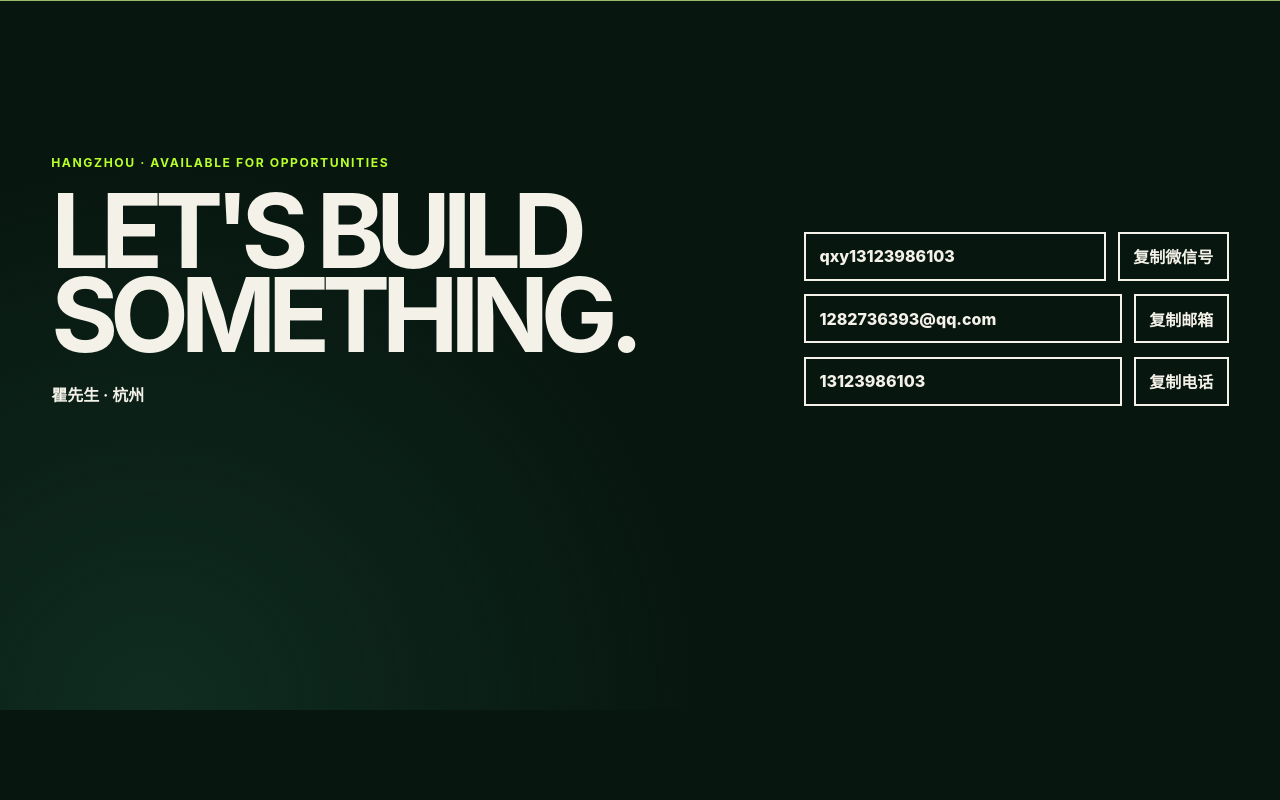
ContactSection › copies the public WeChat ID and announces success
Expected: the text "qxy13123986103" is shown, [804,232,1106,281]
Click the button "复制微信号": (1173, 256) [1118,232,1229,281]
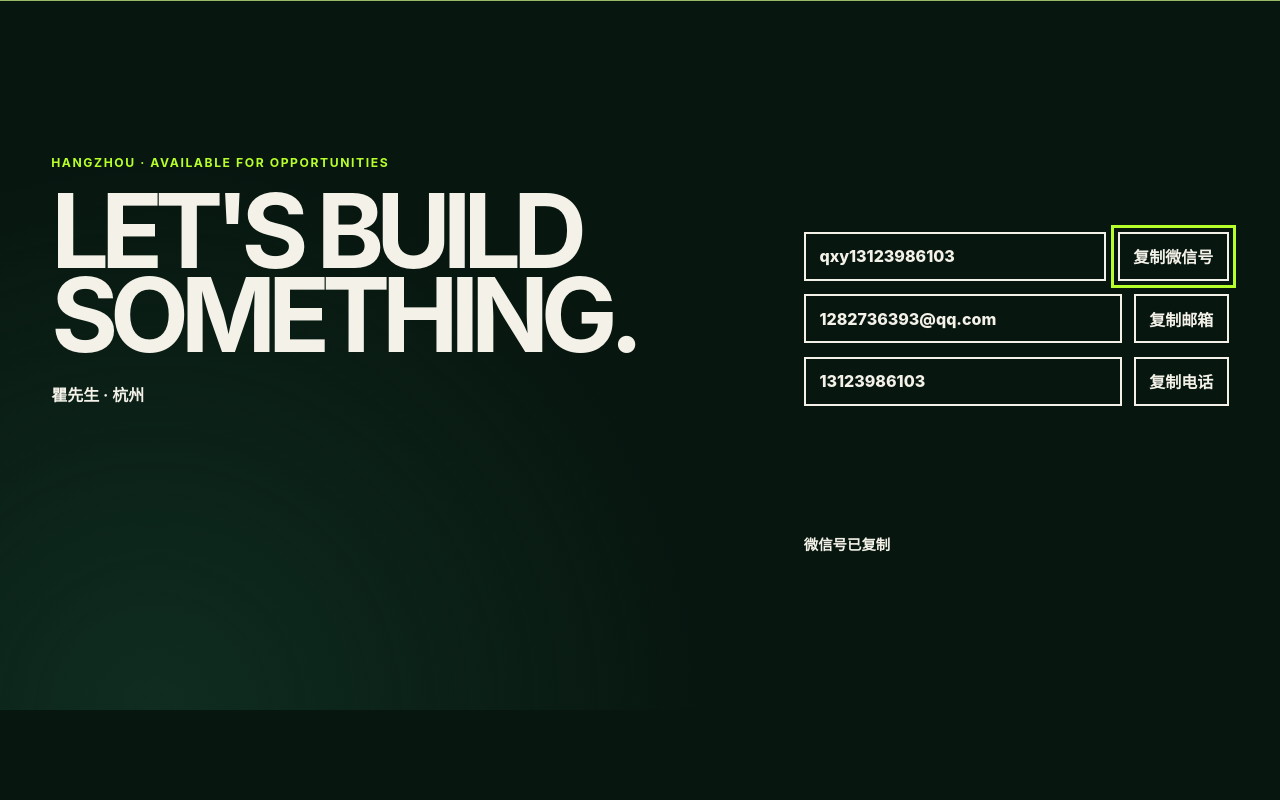
Expected: the message reads "微信号已复制", [804,536,890,553]
